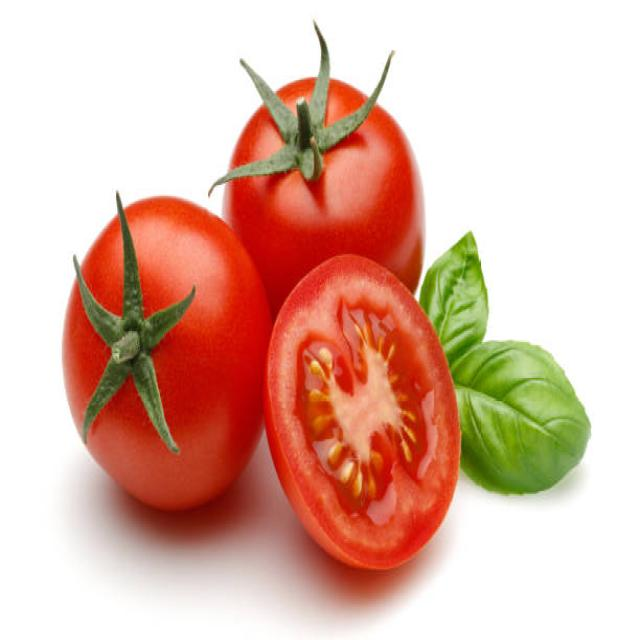Tomato: (262, 236, 474, 574)
